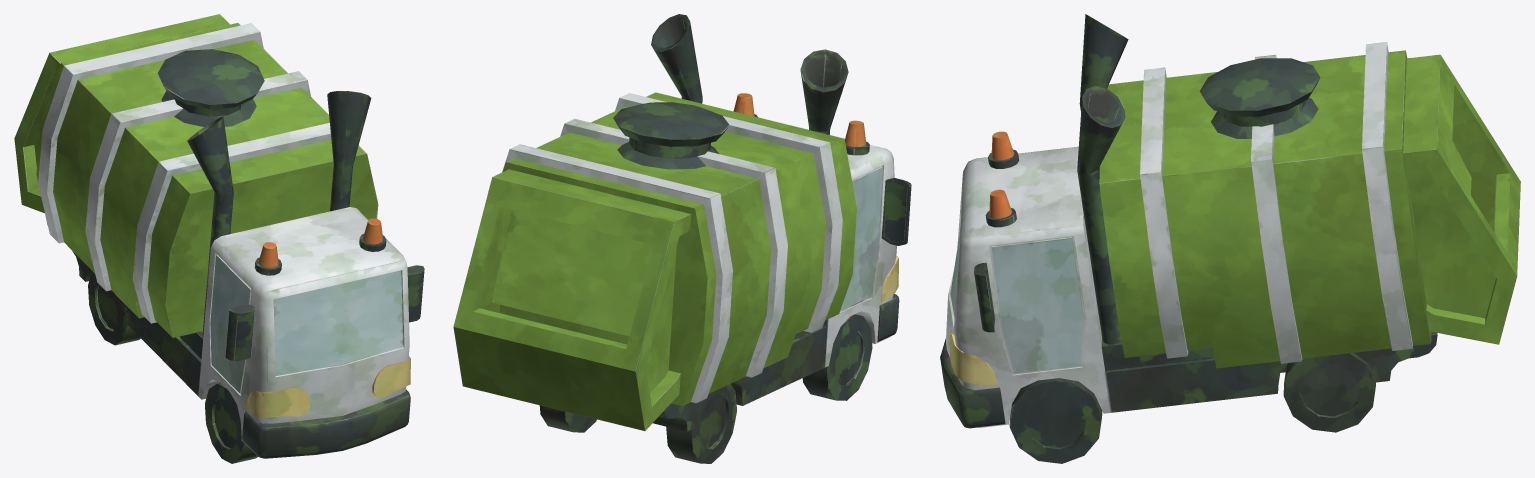
File: Camion animated.fbx
The picture shows the model from 3 angles, left to right: view 1: azimuth 30°, elevation 25°; view 2: azimuth 150°, elevation 25°; view 3: azimuth 270°, elevation 25°; orthographic projection. The views are drawn at different scales.
Parts seen in each view (by area): view 1: Camion poubelle; view 2: Camion poubelle; view 3: Camion poubelle.
Part boxes in pixels (<box>): Camion poubelle: <box>14,14,424,463</box>; Camion poubelle: <box>453,14,911,463</box>; Camion poubelle: <box>940,14,1520,463</box>.
Size of the model in its own units: 333 by 472 by 664.
